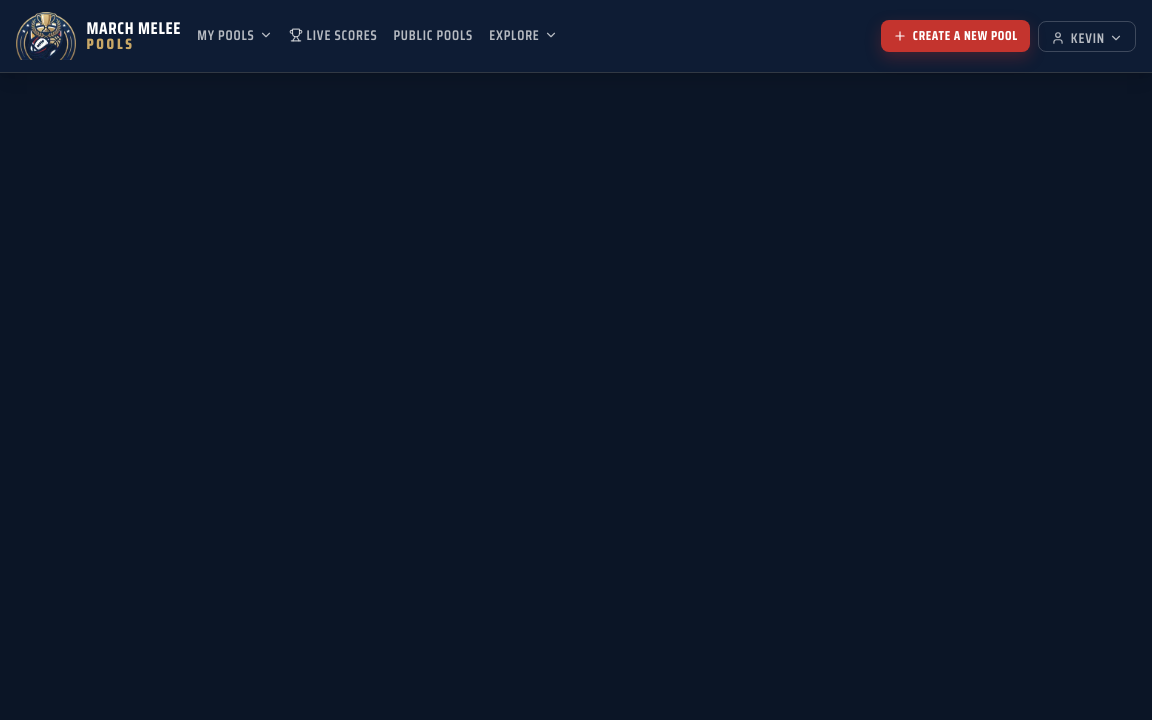
Test case: grouped header nav — disclosure semantics and keyboard › a pointer press outside closes the menu
This screenshot has width=1152, height=720.
Click the button "My Pools" at [235, 36], box 197,24 -> 273,48
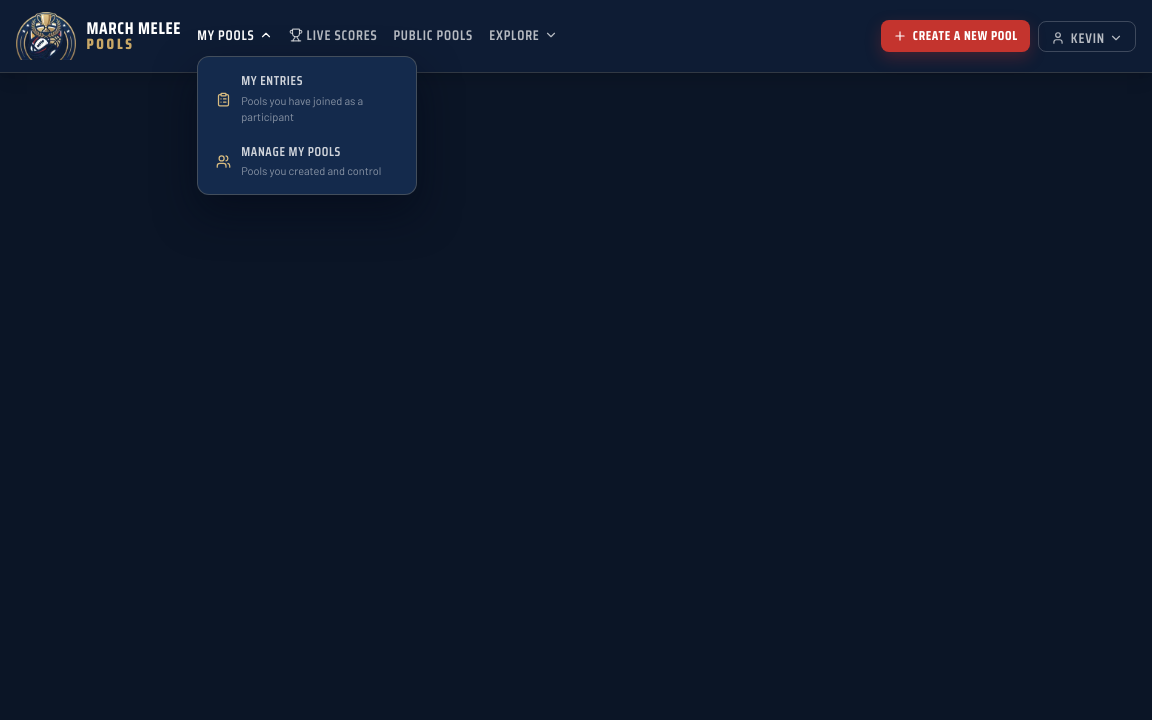
Press the mouse on the element that starts with "March Melee" at [576, 360], box 0,0 -> 1151,719
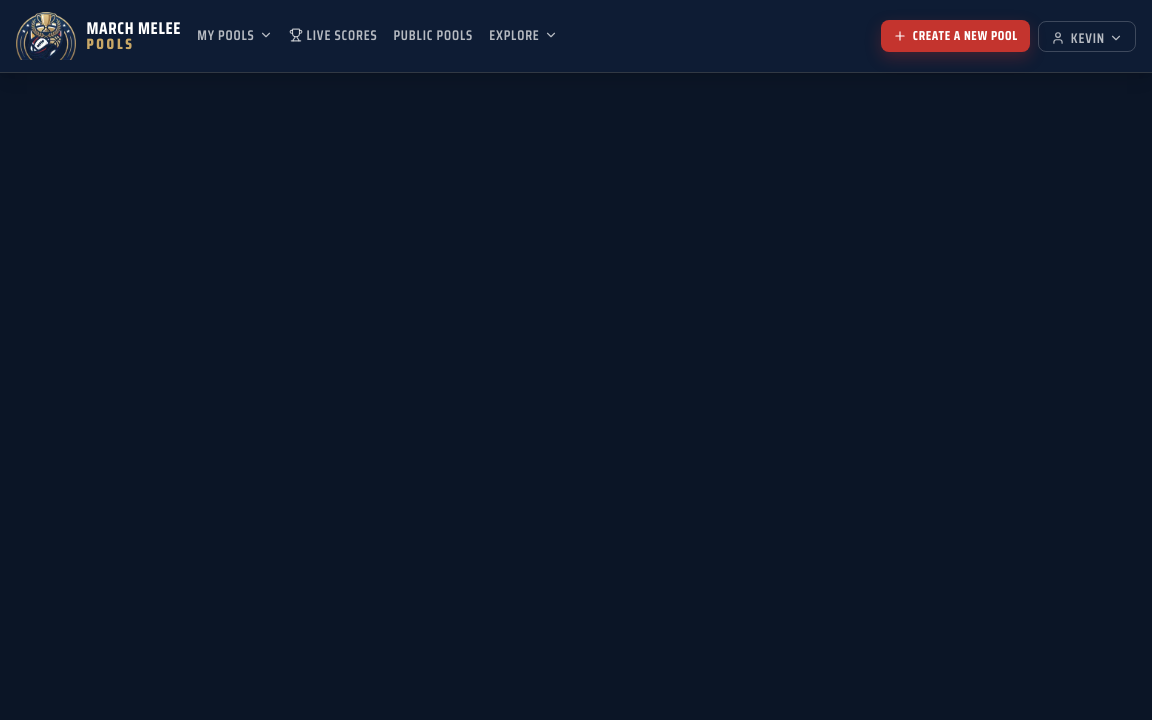
Check: the button "My Pools" is collapsed, box 197,24 -> 273,48
